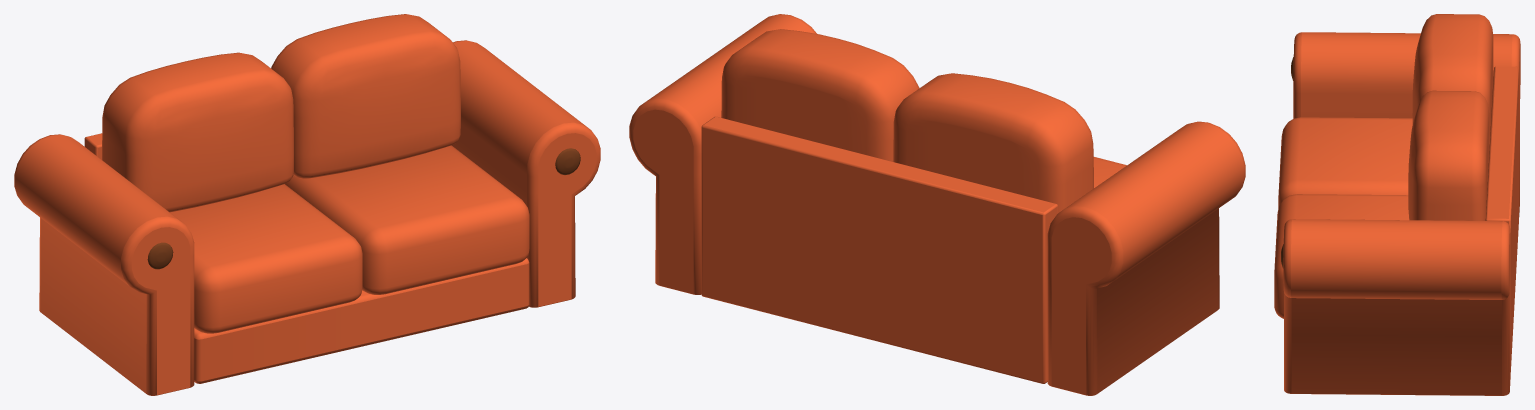
The model's file is Couch2.glb.
3 views of the same model, side by side, from view 1: azimuth 30°, elevation 25°; view 2: azimuth 150°, elevation 25°; view 3: azimuth 270°, elevation 25° (orthographic). The views are drawn at different scales.
Visible parts, largest first — view 1: Couch2; view 2: Couch2; view 3: Couch2.
Part boxes in pixels (x1,y1,x2,y2): Couch2: (14, 14, 600, 395); Couch2: (629, 14, 1245, 395); Couch2: (1274, 14, 1520, 395).
Size of the model in its own units: 2.58 by 1.2 by 1.21.
1 material, 1 textured.
